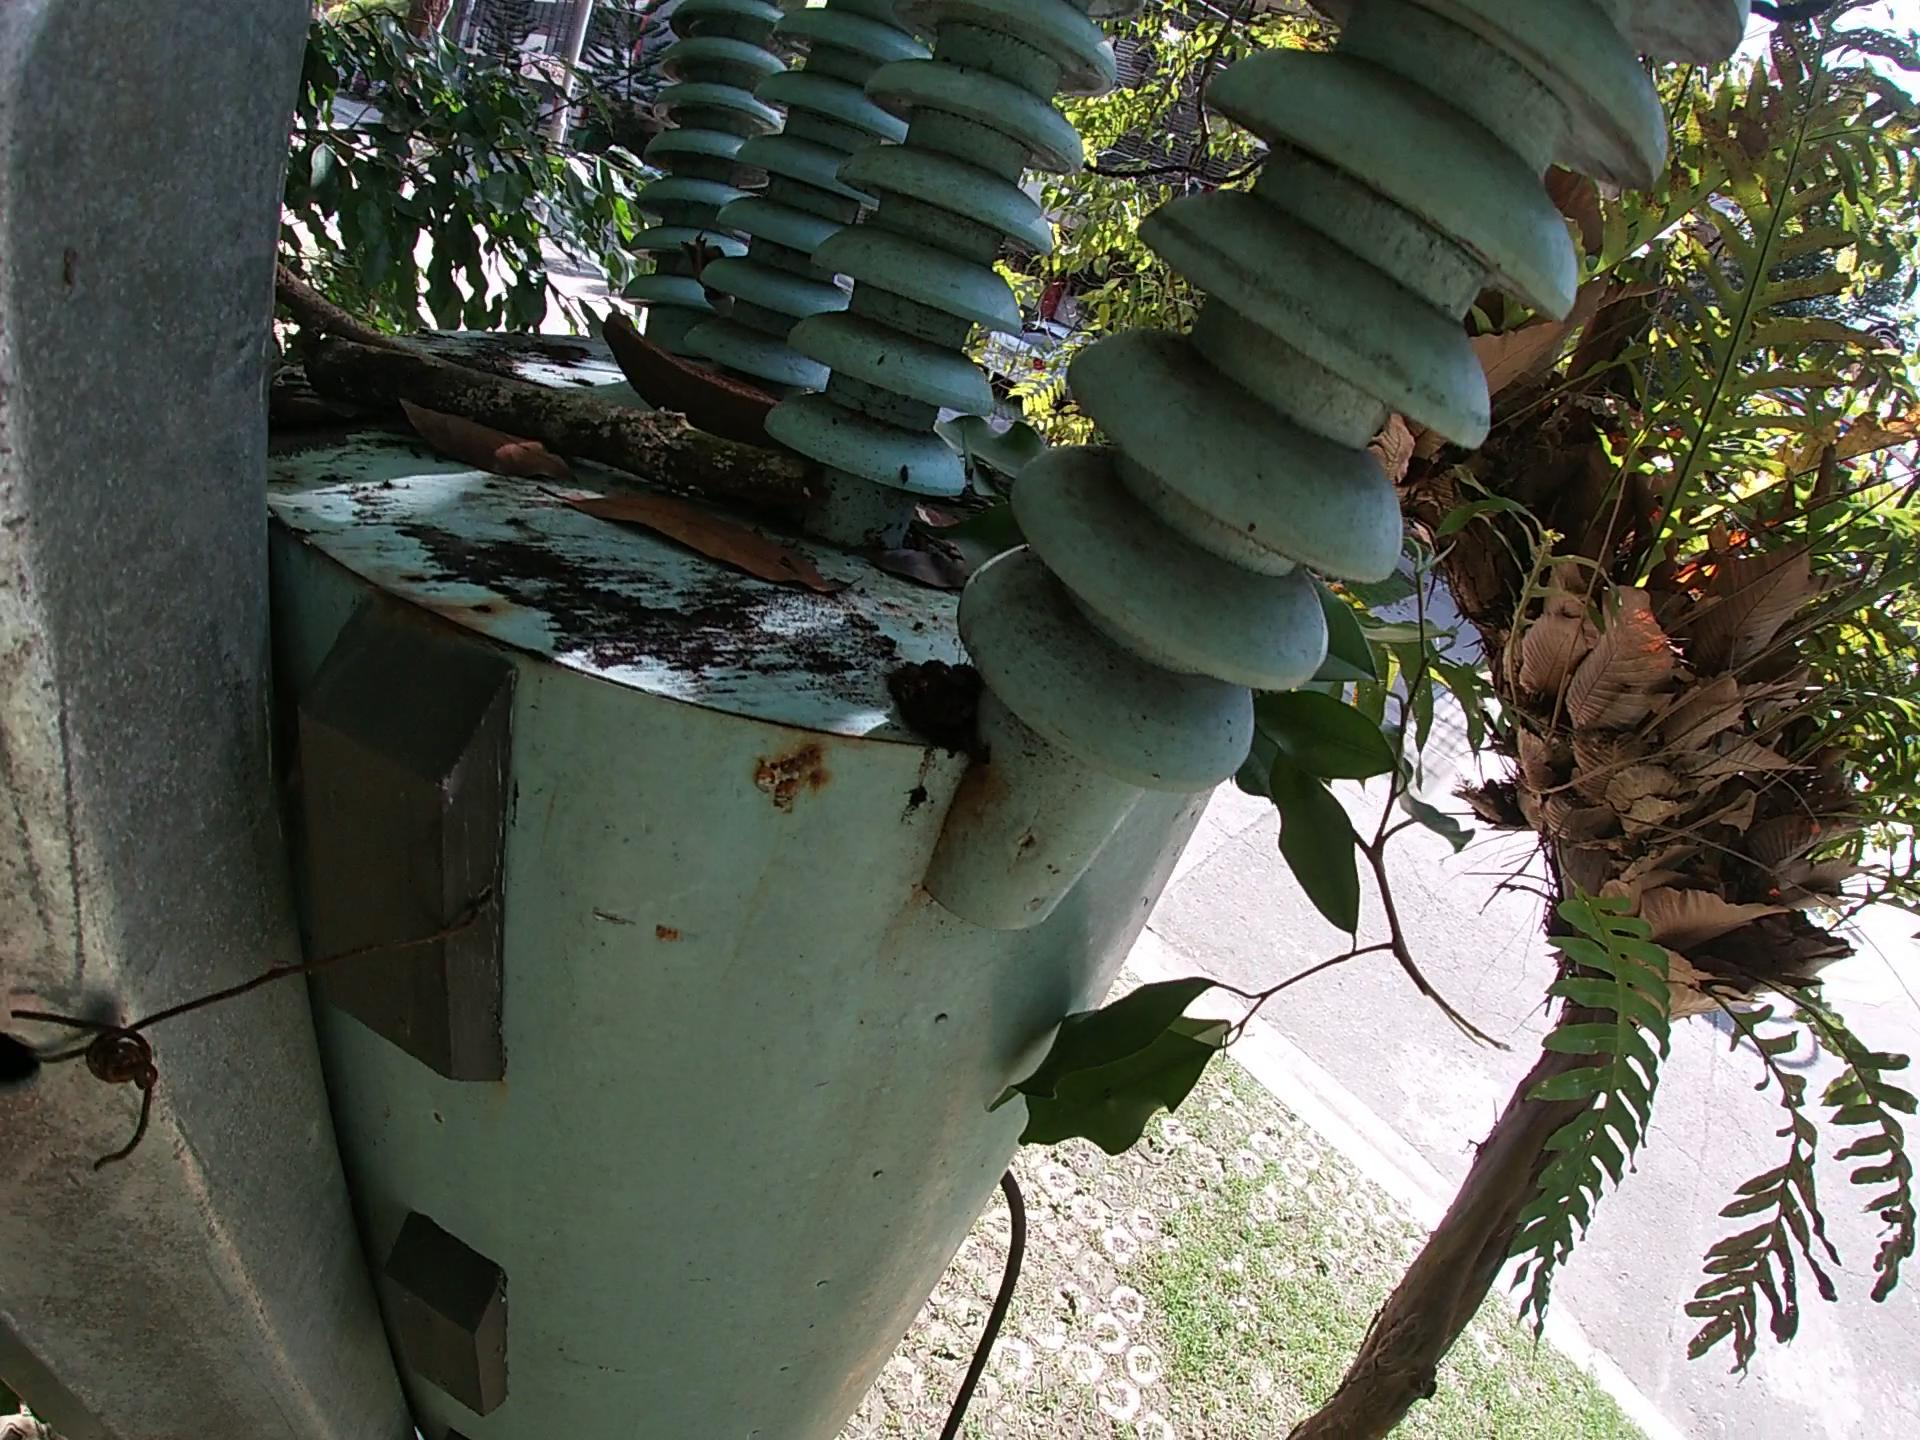branch with leaves: (975, 526, 1507, 1165)
leaf: (525, 481, 869, 604), (392, 390, 585, 489), (841, 534, 980, 597), (260, 393, 364, 446)
mahogany fruit: (596, 306, 786, 443)
tree branch: (292, 330, 816, 520), (263, 260, 417, 349)
